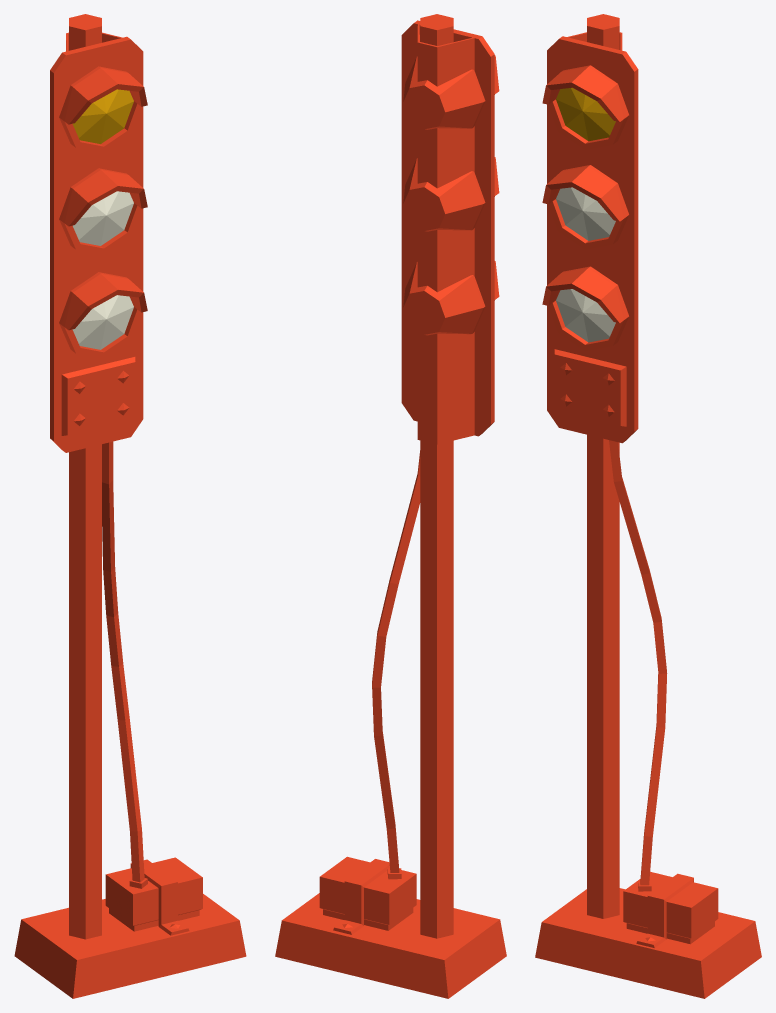
The model's file is SM_Rails_Light_A_City.fbx.
The picture shows the model from 3 angles, left to right: view 1: azimuth 30°, elevation 25°; view 2: azimuth 150°, elevation 25°; view 3: azimuth 330°, elevation 25°; orthographic projection. The views are drawn at different scales.
Visible parts, largest first — view 1: SM_Rails_Light_A_City; view 2: SM_Rails_Light_A_City; view 3: SM_Rails_Light_A_City.
Boxes of the visible parts, x1,y1,x2,y2 form: SM_Rails_Light_A_City: (14,14,246,998); SM_Rails_Light_A_City: (275,14,506,998); SM_Rails_Light_A_City: (535,14,761,998).
Size of the model in its own units: 0.5885 by 3 by 0.3589.
